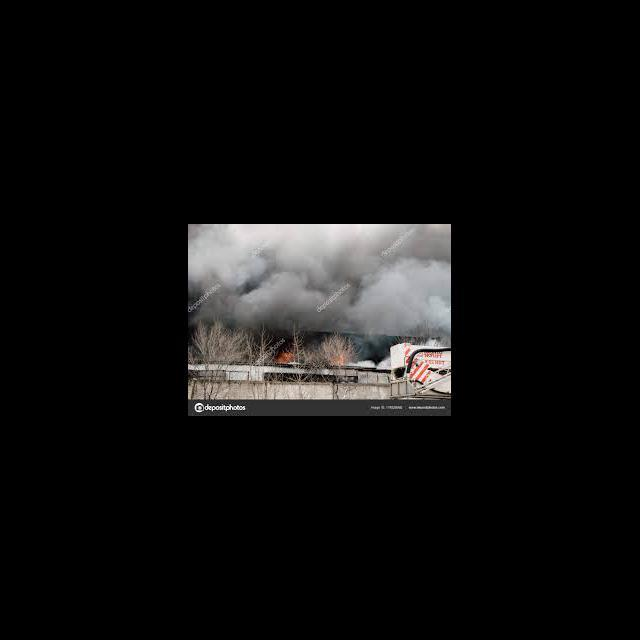Fire: (273, 349, 297, 364), (328, 351, 348, 366)
Smoke: (188, 224, 450, 334)
